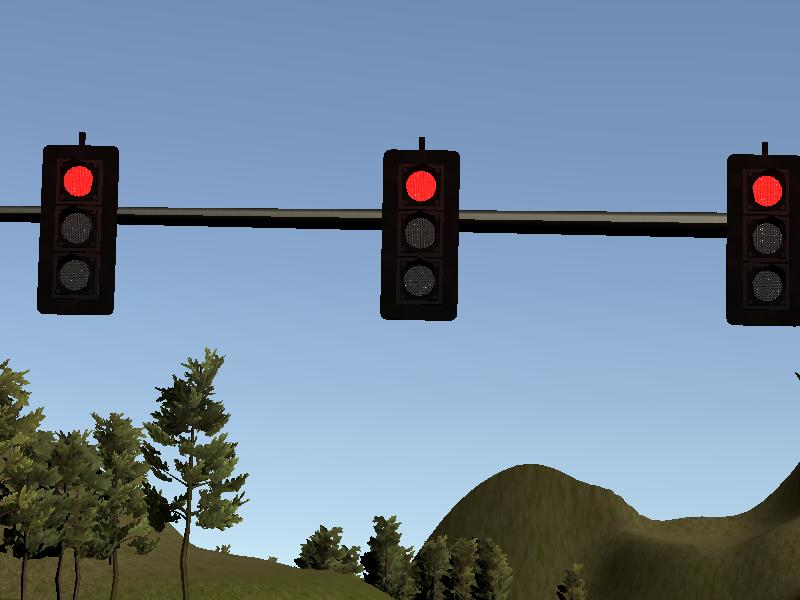red: (381, 150, 459, 320), (39, 147, 117, 317), (724, 155, 800, 326)
